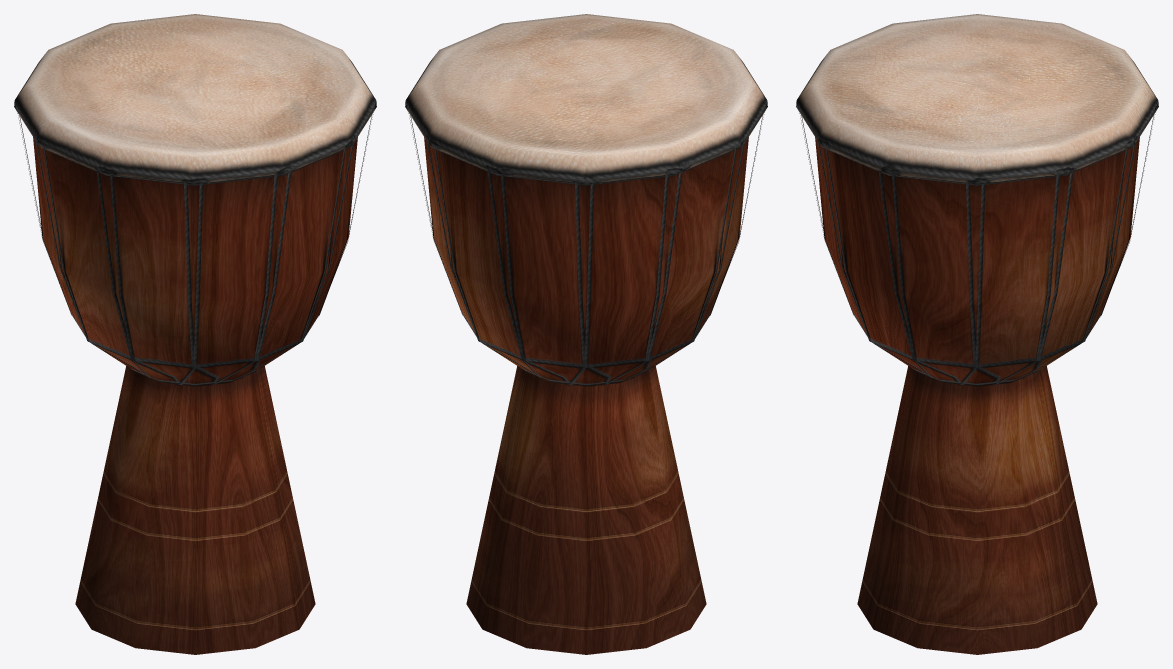
Rendered from Jambe.FBX.
3 renders of one model, left to right at view 1: azimuth 30°, elevation 25°; view 2: azimuth 150°, elevation 25°; view 3: azimuth 270°, elevation 25°, orthographic.
Parts seen in each view (by area): view 1: Jambe; view 2: Jambe; view 3: Jambe.
Part boxes in pixels (x1,y1,x2,y2): Jambe: (14, 14, 376, 654); Jambe: (405, 14, 767, 654); Jambe: (796, 14, 1158, 654).
Bounding box in the file's own units: 21.48 × 33.96 × 21.48.
Materials: 1 (1 with a texture image).
